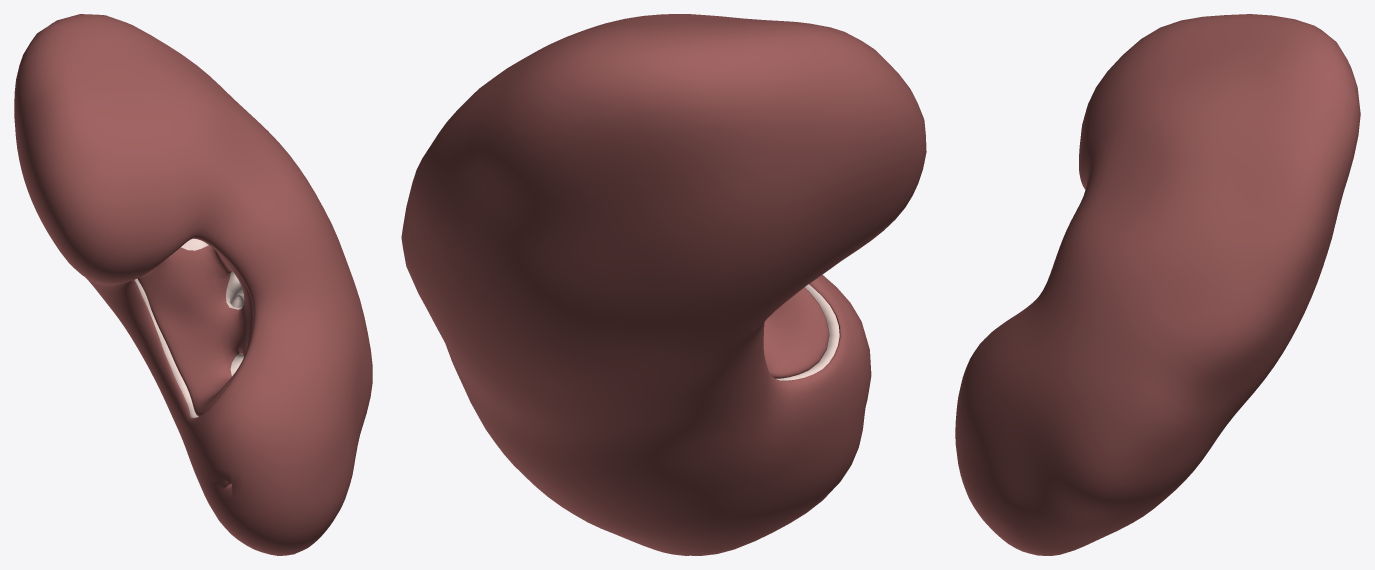
Rendered from kidney-male-left.glb.
3 views of the same model, side by side, from view 1: azimuth 30°, elevation 25°; view 2: azimuth 150°, elevation 25°; view 3: azimuth 270°, elevation 25° (orthographic). The views are drawn at different scales.
Parts seen in each view (by area): view 1: VH_M_kidney_capsule_L, VH_M_hilum_of_kidney_L, VH_M_renal_column_L, VH_M_outer_cortex_of_kidney_L; view 2: VH_M_kidney_capsule_L, VH_M_hilum_of_kidney_L, VH_M_outer_cortex_of_kidney_L; view 3: VH_M_kidney_capsule_L.
Boxes of the visible parts, <box> form: VH_M_kidney_capsule_L: <box>14,14,372,555</box>; VH_M_hilum_of_kidney_L: <box>137,238,253,416</box>; VH_M_renal_column_L: <box>181,238,244,376</box>; VH_M_outer_cortex_of_kidney_L: <box>135,278,198,417</box>; VH_M_kidney_capsule_L: <box>401,14,926,555</box>; VH_M_hilum_of_kidney_L: <box>763,287,829,378</box>; VH_M_outer_cortex_of_kidney_L: <box>776,284,839,380</box>; VH_M_kidney_capsule_L: <box>955,14,1360,555</box>.
Size of the model in its own units: 0.0757 by 0.1065 by 0.0824.
